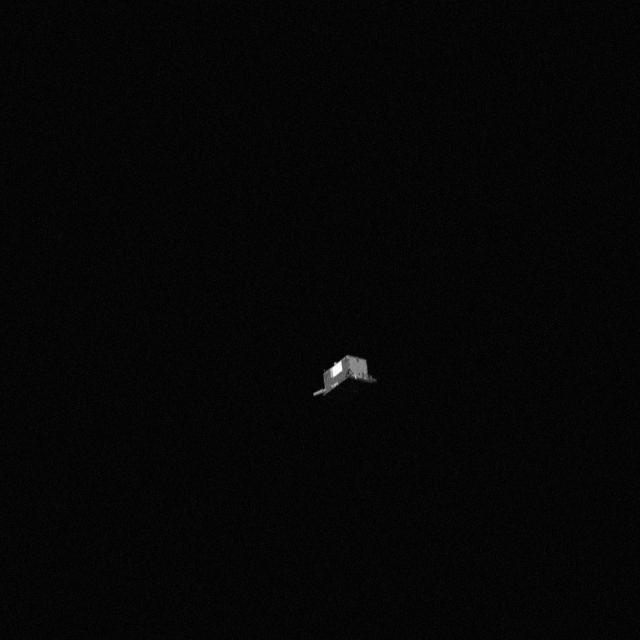medium_debris: (312, 346, 382, 412)
